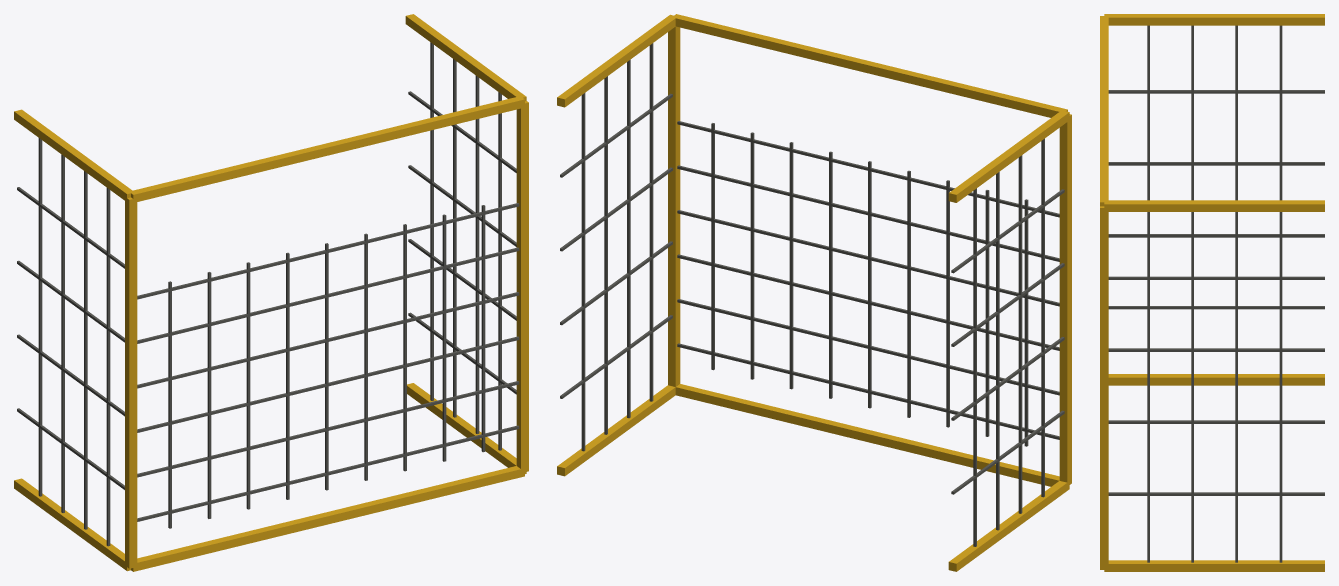
Rendered from SM_Red_Cuarentena.fbx.
The picture shows the model from 3 angles, left to right: view 1: azimuth 30°, elevation 25°; view 2: azimuth 150°, elevation 25°; view 3: azimuth 270°, elevation 25°; orthographic projection. The views are drawn at different scales.
Parts seen in each view (by area): view 1: SM_Red_Cuarentena; view 2: SM_Red_Cuarentena; view 3: SM_Red_Cuarentena.
Boxes of the visible parts, bbox=[...] form: SM_Red_Cuarentena: bbox=[14, 14, 528, 571]; SM_Red_Cuarentena: bbox=[557, 14, 1071, 571]; SM_Red_Cuarentena: bbox=[1100, 14, 1324, 571].
Size of the model in its own units: 1.02 by 0.92 by 0.51.
